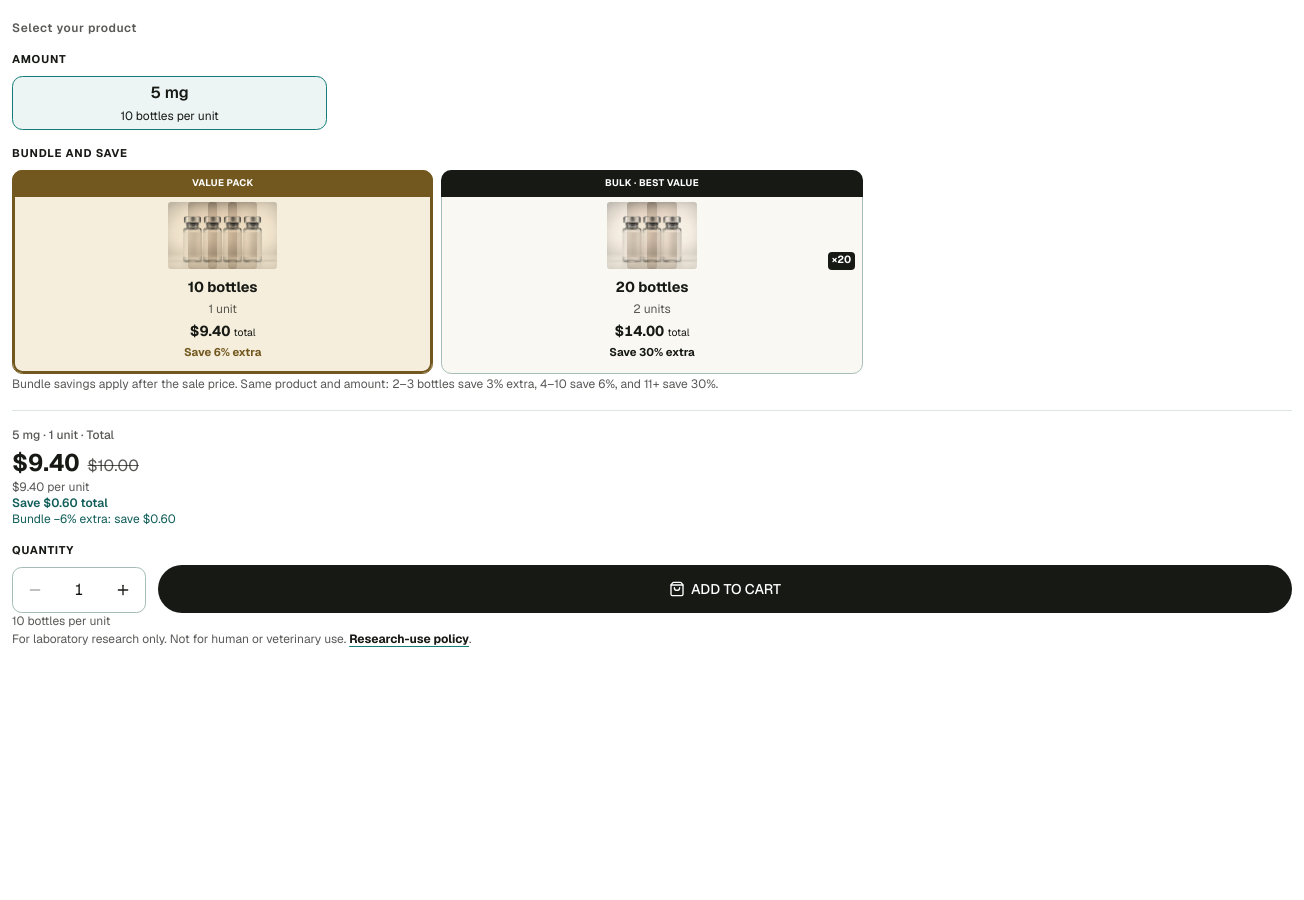
Test: ProductPurchasePanel › keeps package bottles separate from purchased units
What coordinates should you click on to do the following:
click the button with aria-label "20 bottles,"
I would click on:
 (652, 183)
Its box is x1=441 y1=170 x2=863 y2=374.
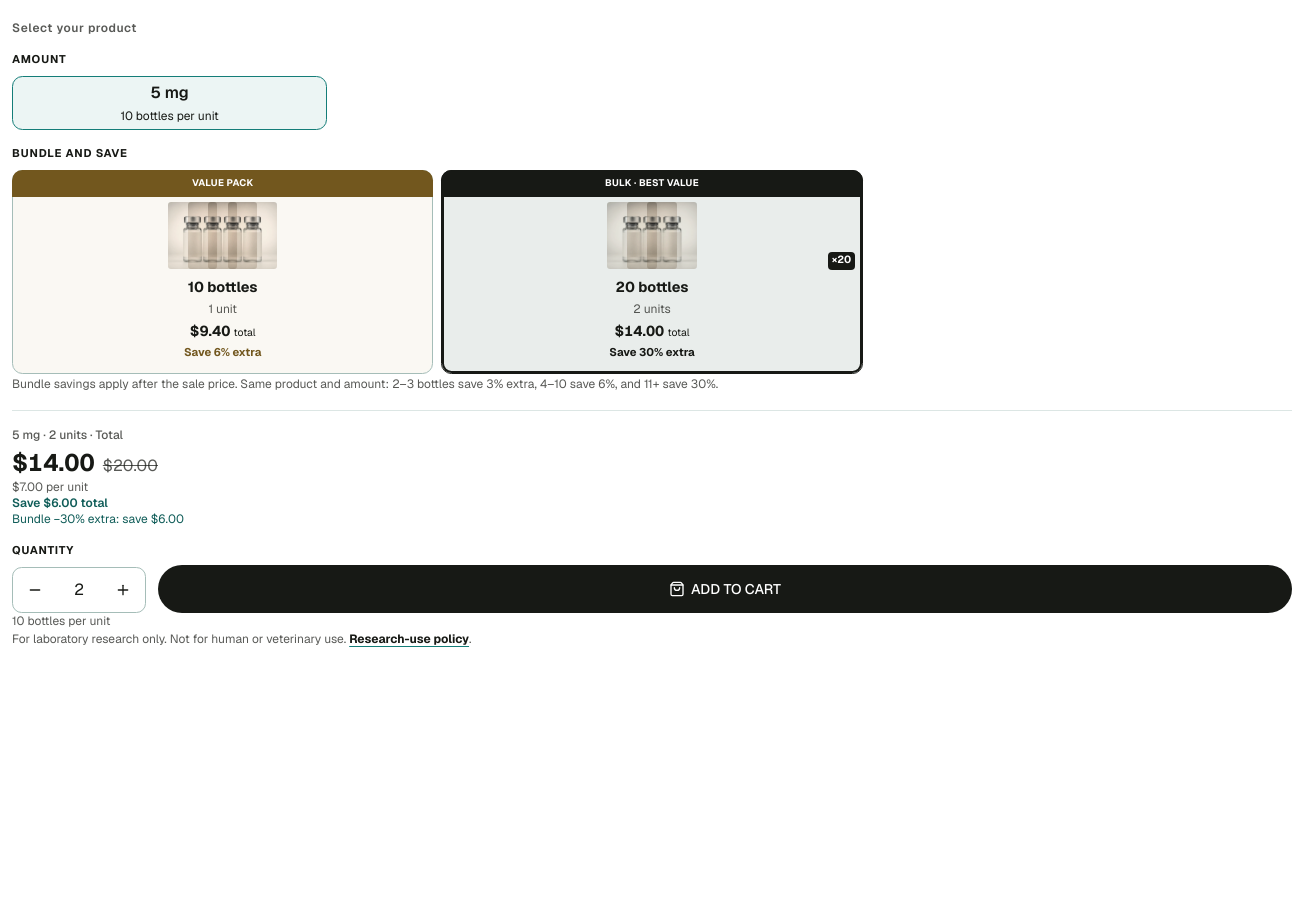
Now the number field labelled "Quantity" holds "2", box x1=57 y1=568 x2=101 y2=612
Now the message named "Purchase summary" shows "2 units", box x1=12 y1=428 x2=184 y2=528
Now the message named "Purchase summary" shows "$14.00", box x1=12 y1=448 x2=95 y2=478
